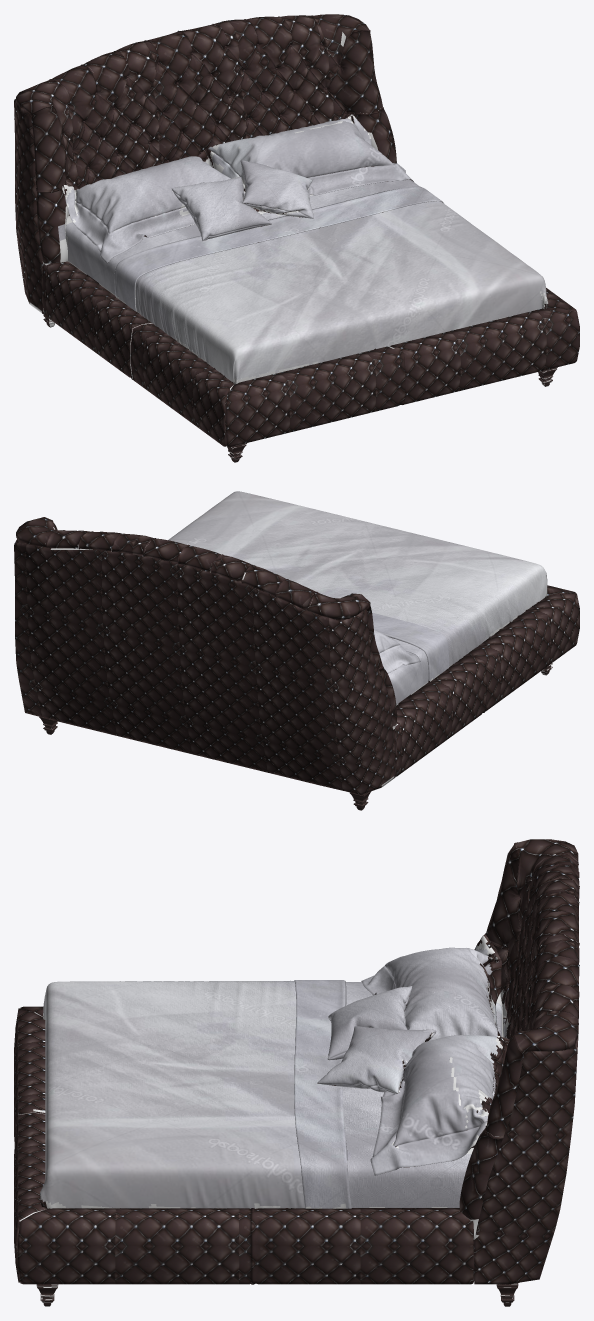
The model's file is bed1final.glb.
3 renders of one model, top to bottom at view 1: azimuth 30°, elevation 25°; view 2: azimuth 150°, elevation 25°; view 3: azimuth 270°, elevation 25°, orthographic. The views are drawn at different scales.
Visible parts, largest first — view 1: 1; view 2: 1; view 3: 1.
Boxes of the visible parts, x1=… form: 1: x1=14, y1=14, x2=579, y2=462; 1: x1=14, y1=491, x2=579, y2=810; 1: x1=14, y1=839, x2=579, y2=1306.
Size of the model in its own units: 4.58 by 2.95 by 5.03.
Materials: 3 (2 with a texture image).
